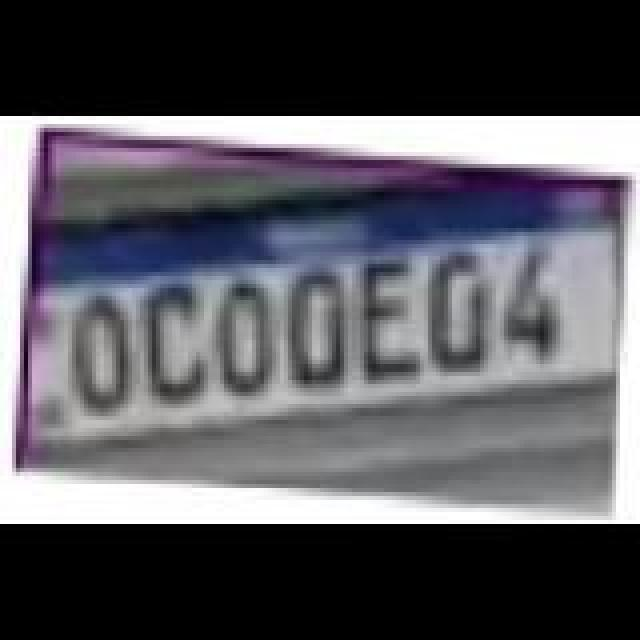4: (500, 242, 572, 366)
C: (136, 284, 216, 404)
D: (420, 250, 500, 374), (282, 266, 358, 390)
E: (352, 258, 432, 382)
O: (62, 294, 138, 418), (210, 280, 286, 400)
